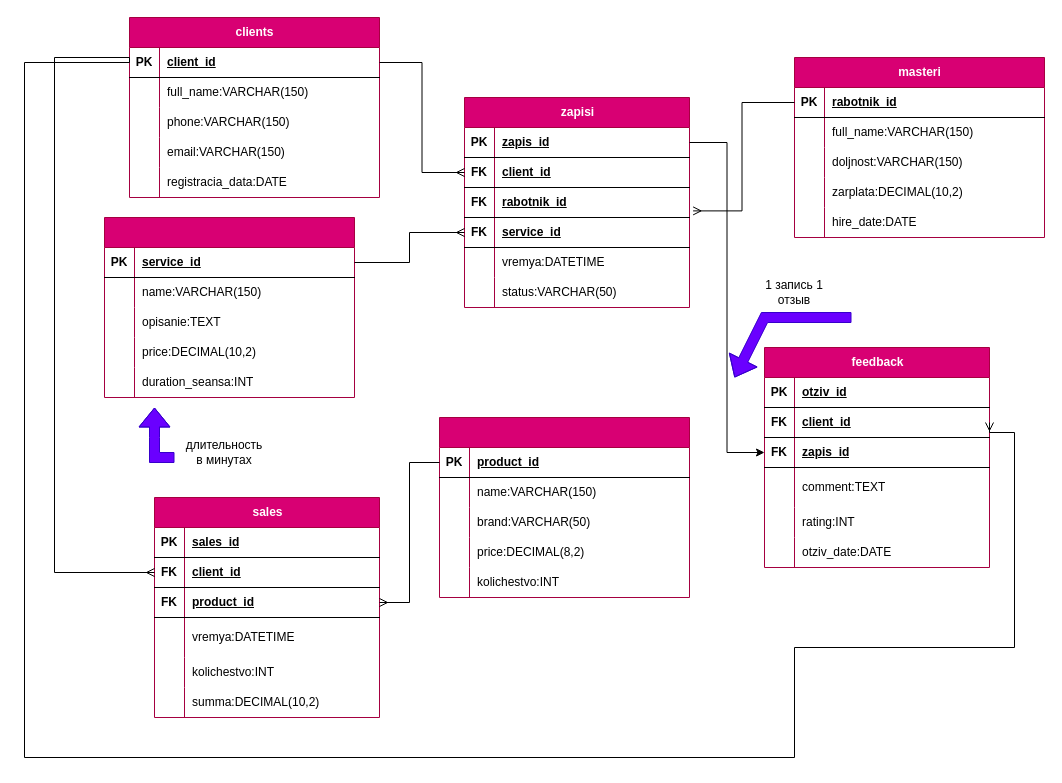
Image size: 1062x783. Some labels were removed from this diagram. Each missing label, with the box of its shape:
kosmetika: (438, 416, 690, 598)
services: (104, 216, 354, 398)
